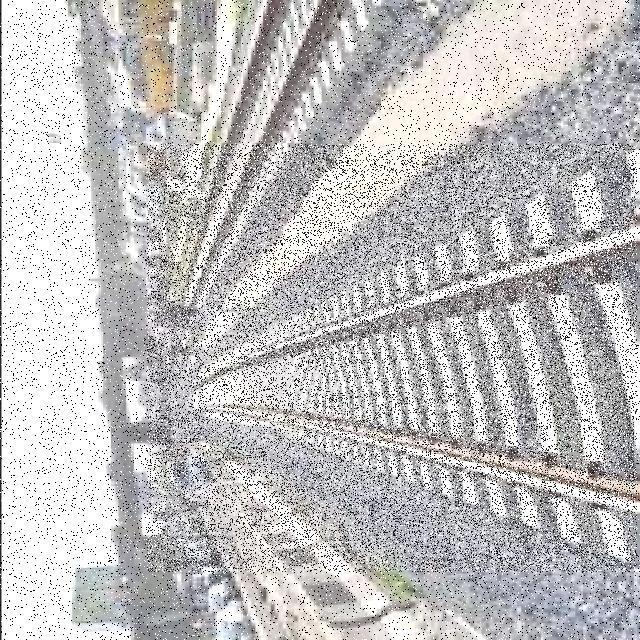rail: (147, 144, 637, 572), (171, 0, 400, 319)
